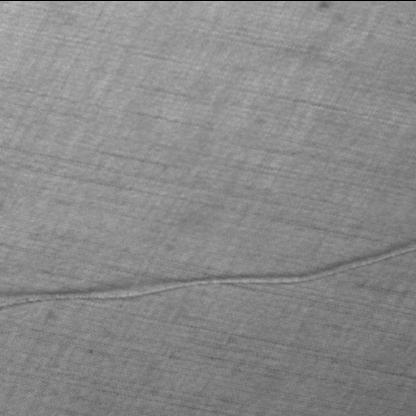objects: (0, 238, 415, 313)
